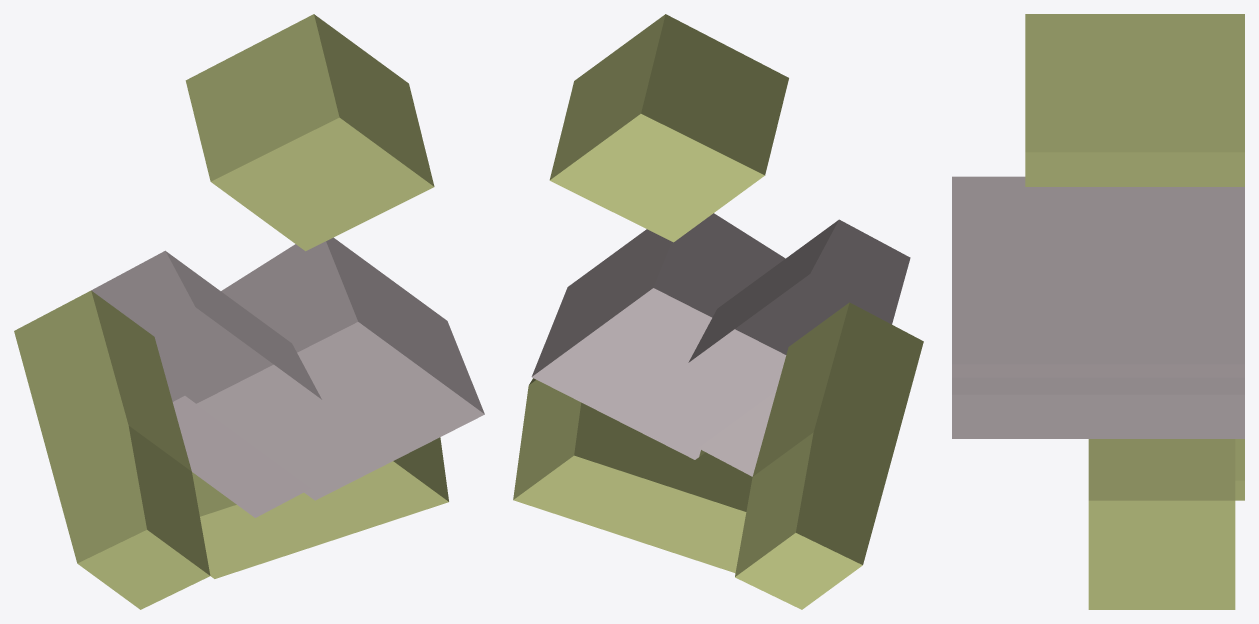
The picture shows the model from 3 angles, left to right: view 1: azimuth 30°, elevation 25°; view 2: azimuth 150°, elevation 25°; view 3: azimuth 270°, elevation 25°; orthographic projection. The views are drawn at different scales.
Parts seen in each view (by area): view 1: 0_1_0_0_1_0_1_3_3_3; view 2: 0_1_0_0_1_0_1_3_3_3; view 3: 0_1_0_0_1_0_1_3_3_3.
Boxes of the visible parts, x1=… form: 0_1_0_0_1_0_1_3_3_3: x1=14, y1=14, x2=484, y2=609; 0_1_0_0_1_0_1_3_3_3: x1=513, y1=14, x2=923, y2=609; 0_1_0_0_1_0_1_3_3_3: x1=952, y1=14, x2=1244, y2=609.
Bounding box in the file's own units: 20.1 × 25.69 × 12.
